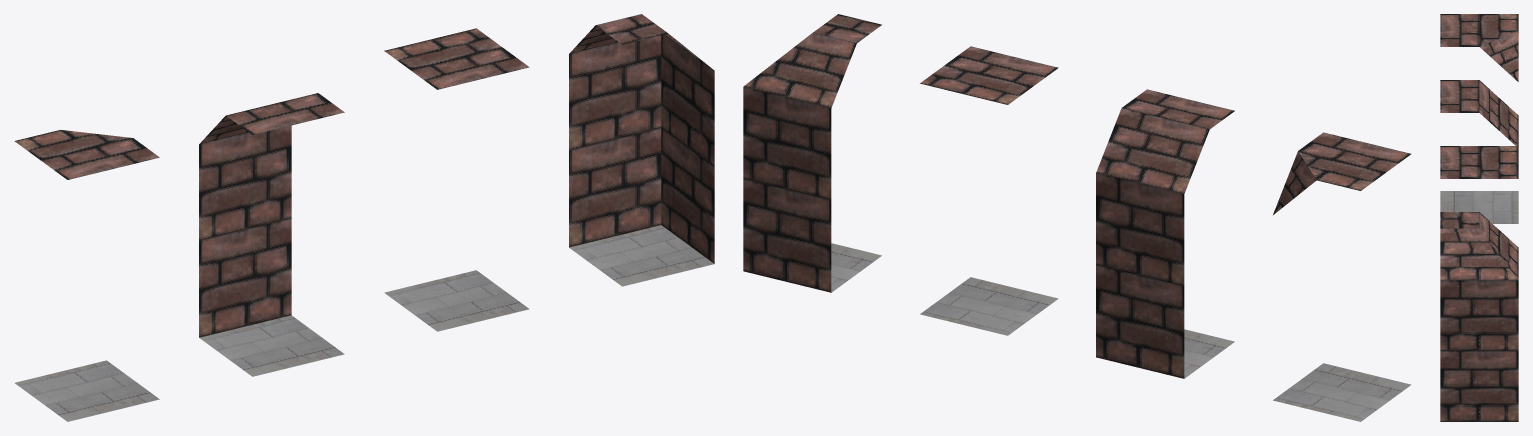
File: tileset.glb
The picture shows the model from 3 angles, left to right: view 1: azimuth 30°, elevation 25°; view 2: azimuth 150°, elevation 25°; view 3: azimuth 270°, elevation 25°; orthographic projection. The views are drawn at different scales.
Parts seen in each view (by area): view 1: corner-col, wall-col, ceiling-col, ceiling-corner-col; view 2: wall-col, corner-col, ceiling-corner-col, ceiling-col; view 3: corner-col, ceiling-corner-col, wall-col, ceiling-col.
Part boxes in pixels (box(x1,y1,x2,y2)): corner-col: box(569, 14, 714, 286); wall-col: box(199, 93, 344, 376); ceiling-col: box(384, 28, 529, 331); ceiling-corner-col: box(14, 130, 159, 421); wall-col: box(1096, 89, 1234, 378); corner-col: box(743, 14, 881, 292); ceiling-corner-col: box(1273, 132, 1411, 421); ceiling-col: box(920, 46, 1058, 335); corner-col: box(1440, 212, 1518, 421); ceiling-corner-col: box(1440, 14, 1518, 223); wall-col: box(1440, 80, 1518, 145); ceiling-col: box(1440, 146, 1518, 178).
Bounding box in the file's own units: 7 × 2.5 × 1.
Materials: 1 (1 with a texture image).
